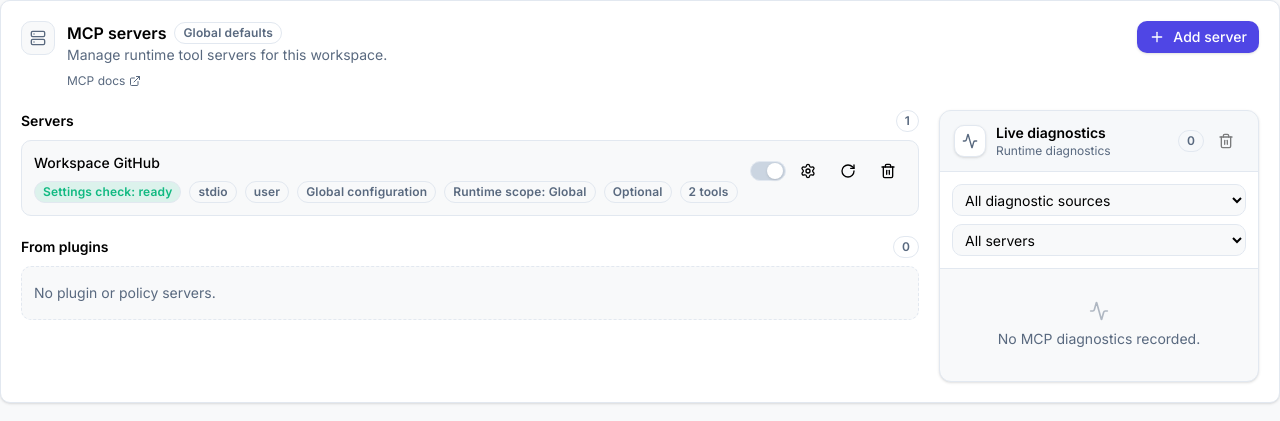
Scenario: MCPManager › deletes a configured server and refreshes the list
This screenshot has width=1280, height=421.
What coordinates should you click on to do the following:
click the button named "Delete Workspace GitHub"
I would click on:
 (888, 171)
Its box is 870,153 -> 906,189.
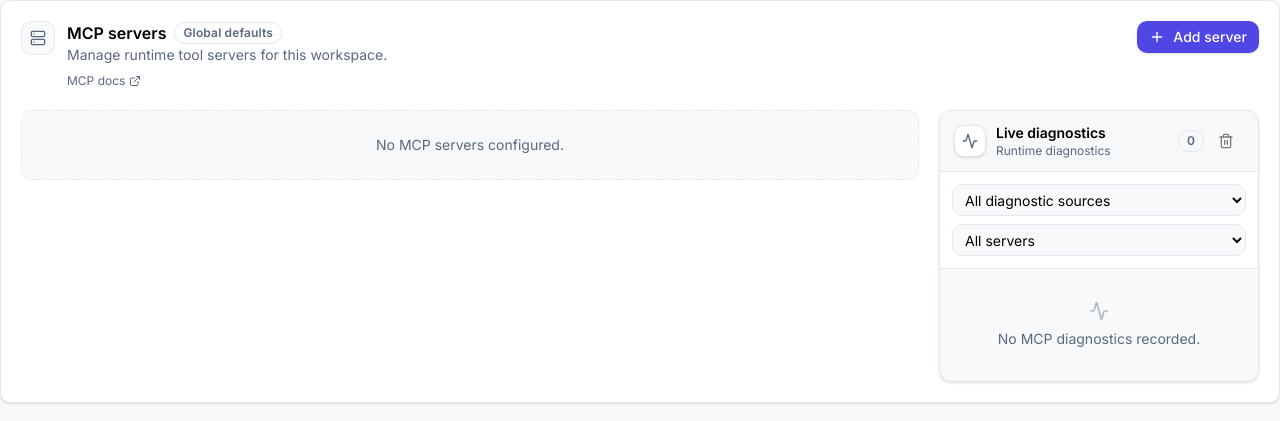
Check: the text "No MCP servers configured." is shown, box 21,110 -> 919,180
